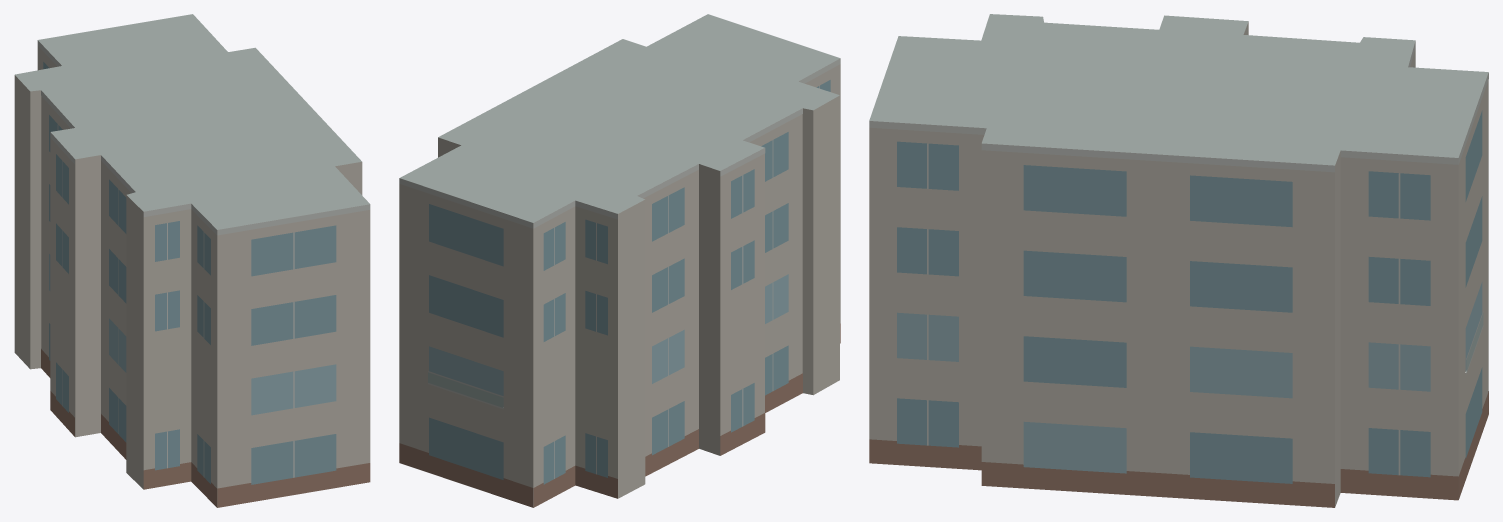
Rendered from survey-upis-32538155.glb.
3 views of the same model, side by side, from view 1: azimuth 30°, elevation 25°; view 2: azimuth 150°, elevation 25°; view 3: azimuth 270°, elevation 25° (orthographic). The views are drawn at different scales.
Visible parts, largest first — view 1: survey-upis-32538155.tmp; view 2: survey-upis-32538155.tmp; view 3: survey-upis-32538155.tmp.
Boxes of the visible parts, x1,y1,x2,y2 form: survey-upis-32538155.tmp: (14, 14, 370, 507); survey-upis-32538155.tmp: (399, 14, 840, 507); survey-upis-32538155.tmp: (869, 14, 1488, 507).
Size of the model in its own units: 11.67 by 12.28 by 20.16.
